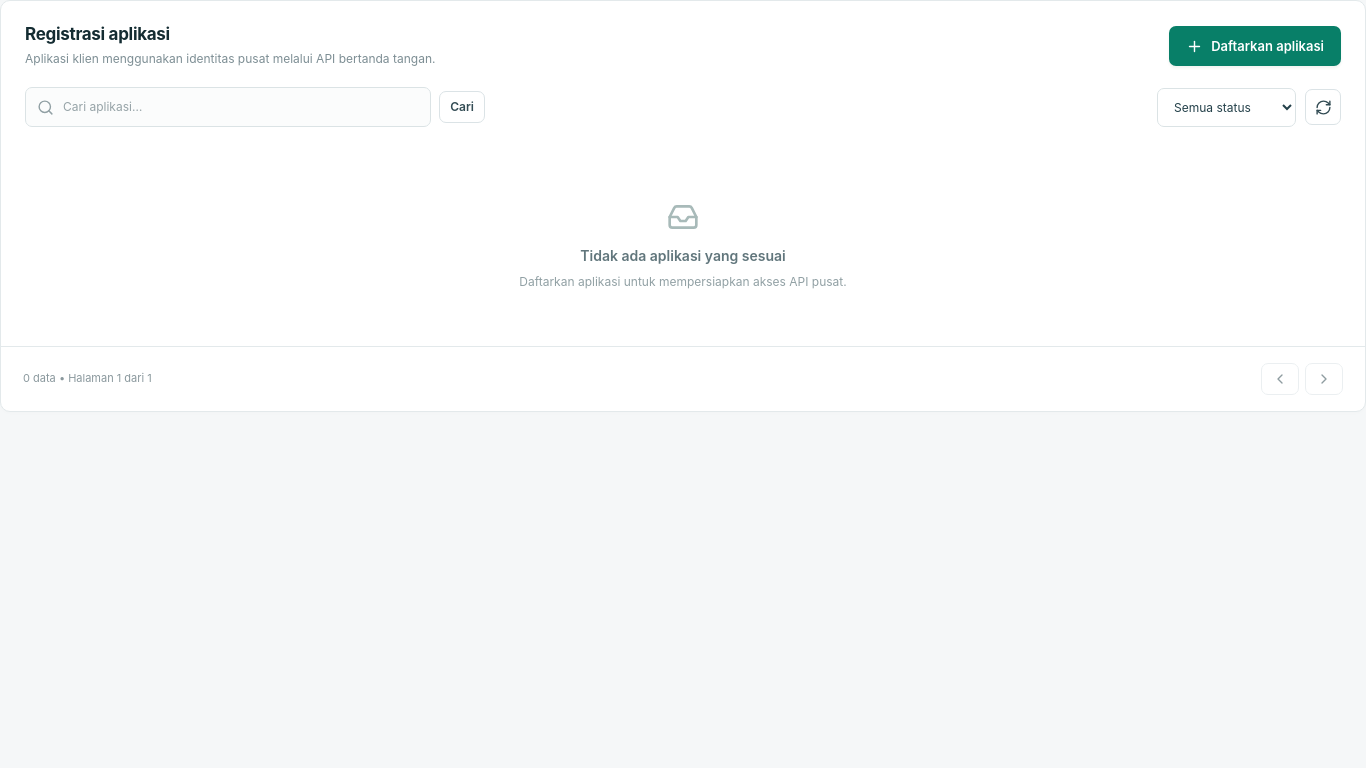
Test: UI07 pendaftaran aplikasi baru memakai default nonaktif dan API tidak diizinkan
Click the button "Daftarkan aplikasi" at (1255, 46), box [1169,26,1341,66]
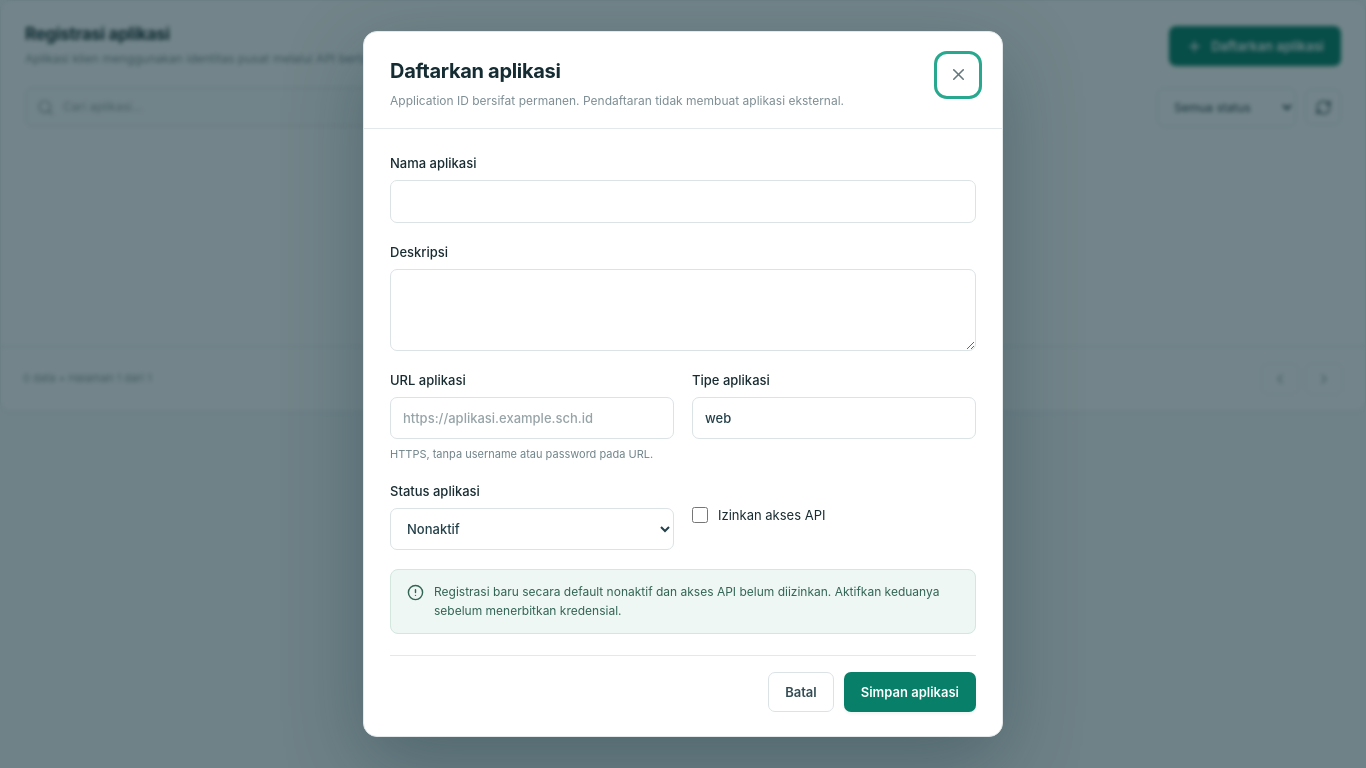
Result: the dropdown labelled "Status aplikasi" shows "Nonaktif" at [390,508,674,550]
Result: the checkbox labelled "Izinkan akses API" is not checked at [692,507,708,523]
Result: the text "tidak membuat aplikasi eksternal" is shown at [390,93,844,108]
